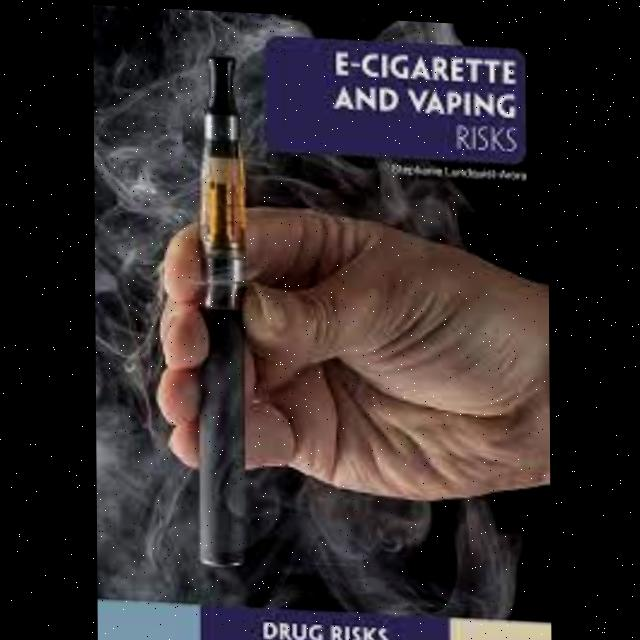vape: (199, 47, 251, 571)
